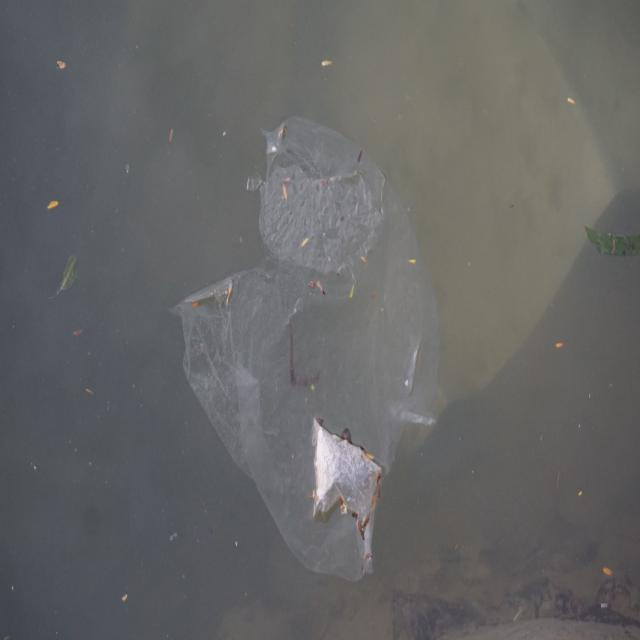Kantong Plastik: (178, 107, 445, 581)
